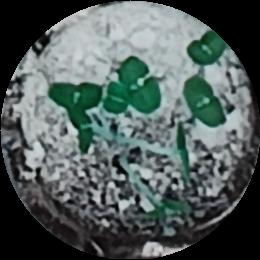Basil: (181, 77, 226, 128), (121, 55, 162, 108), (50, 79, 99, 111), (67, 106, 98, 155), (190, 33, 227, 67)
